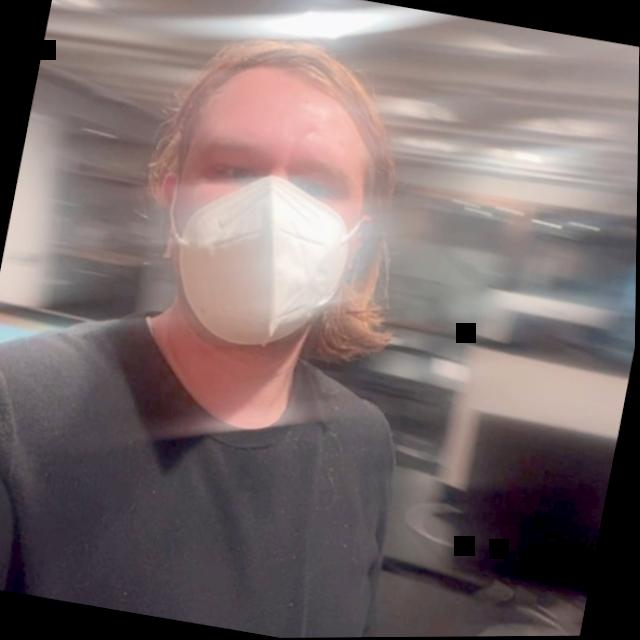Mask: (107, 6, 442, 400)
